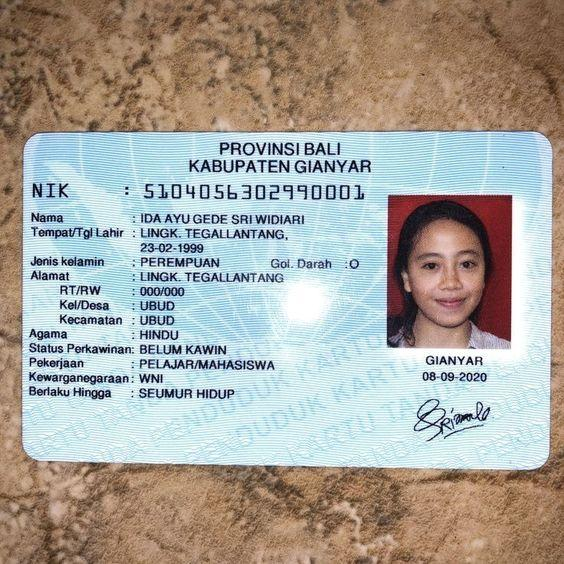ID-card: (25, 132, 542, 460)
